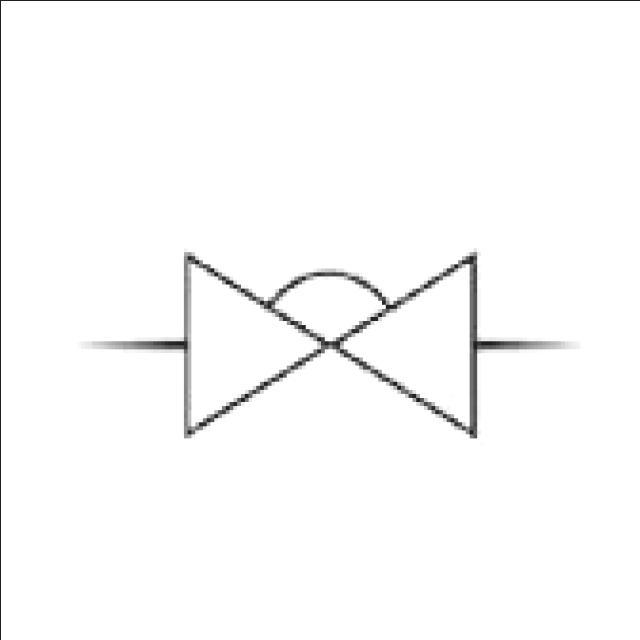Diaphragm Valve: (123, 218, 533, 486)
